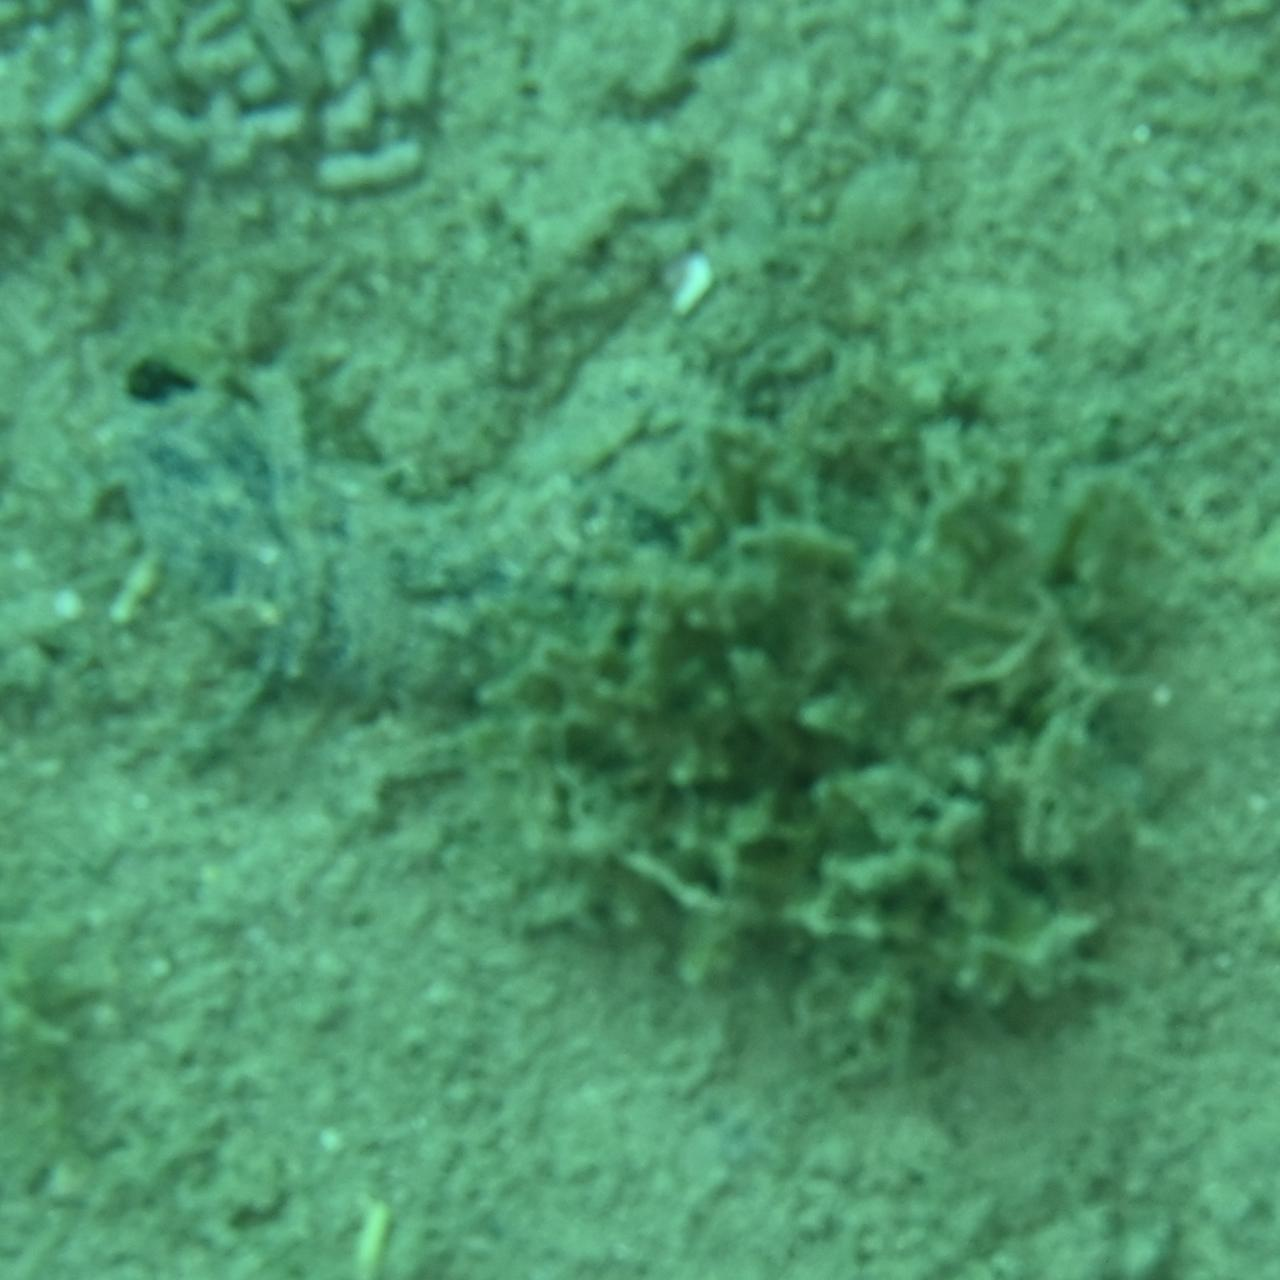Holothuria tubulosa: (82, 326, 782, 772)
Phaeophyceae -cfr Cystoseira-: (482, 387, 1214, 1075)
